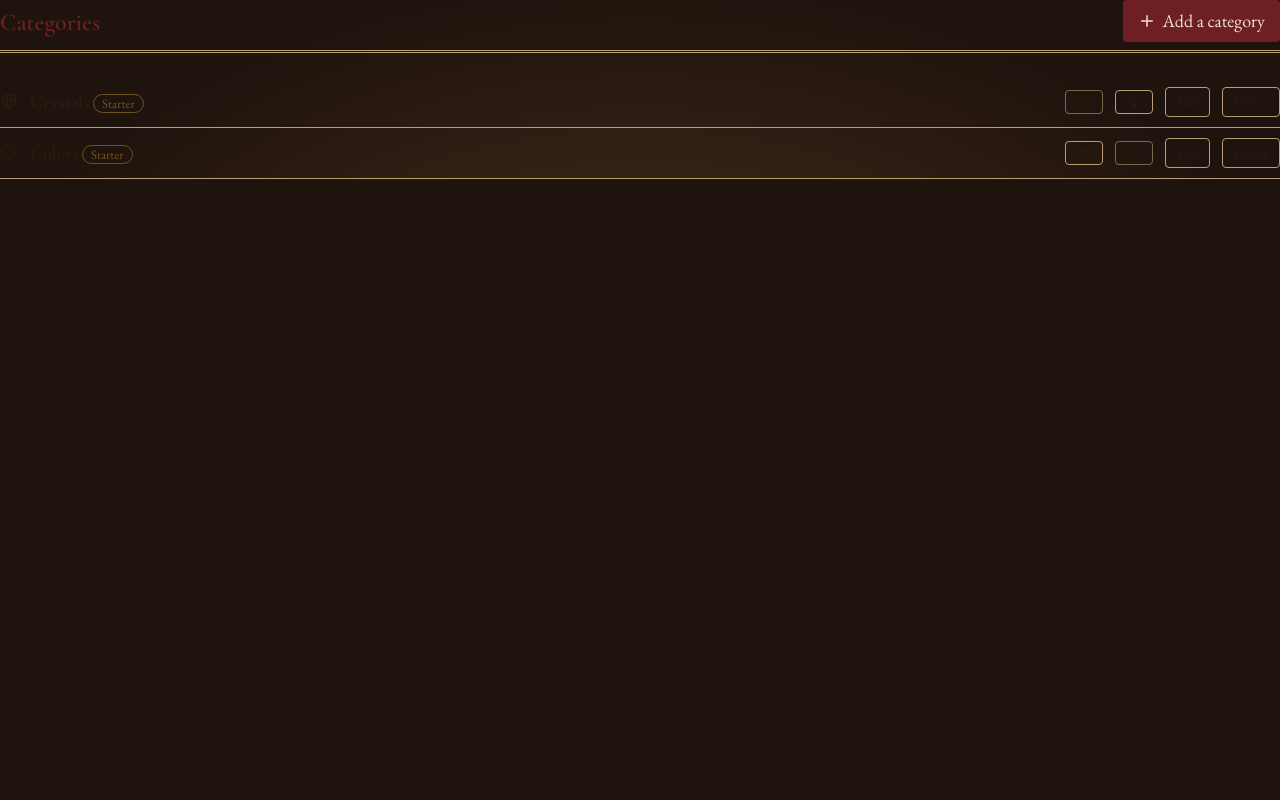
it: Categories › asks before discarding edits
This screenshot has width=1280, height=800.
What coordinates should you click on to do the following:
click the button "Edit" in the row of "Crystals"
I would click on:
 (1188, 102)
Its box is [1165, 87, 1210, 117].
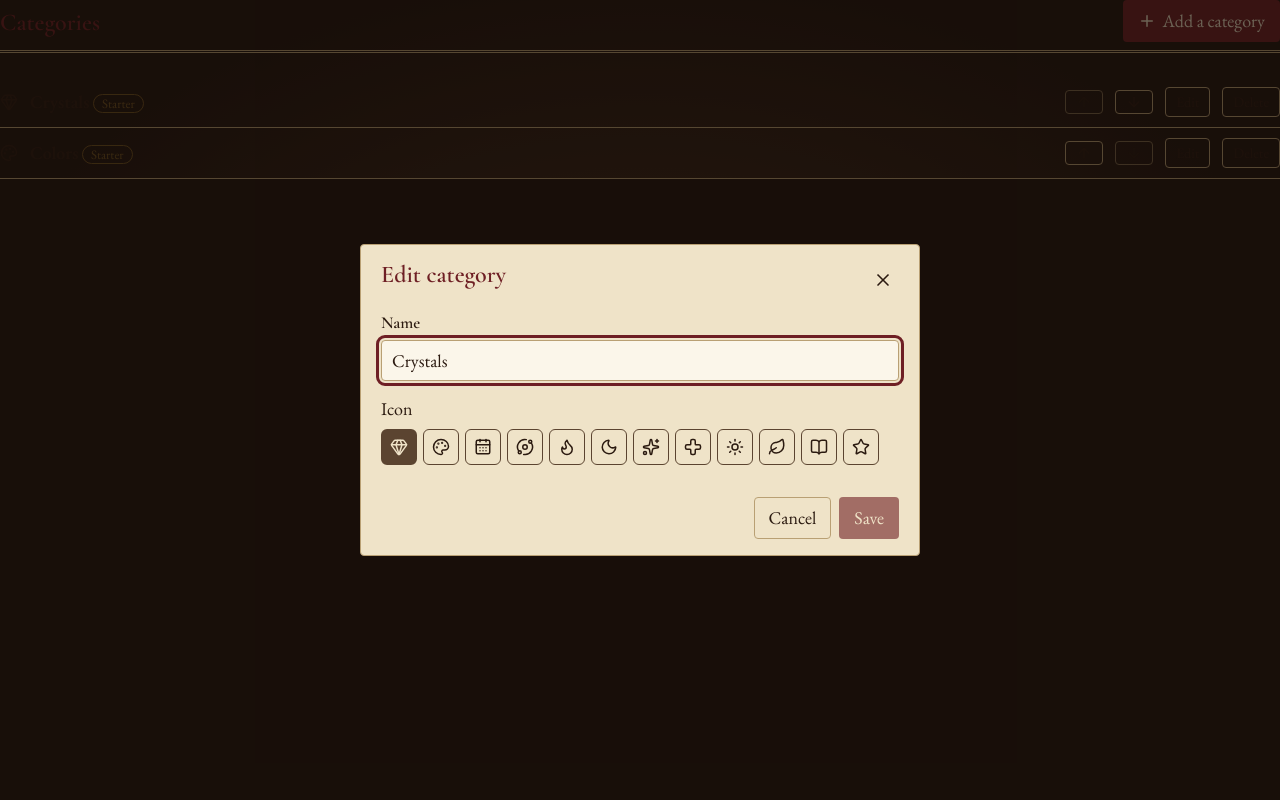
What coordinates should you click on to do the following:
click the radio button named "Moon"
I would click on:
 (609, 447)
Its box is [591, 429, 627, 465].
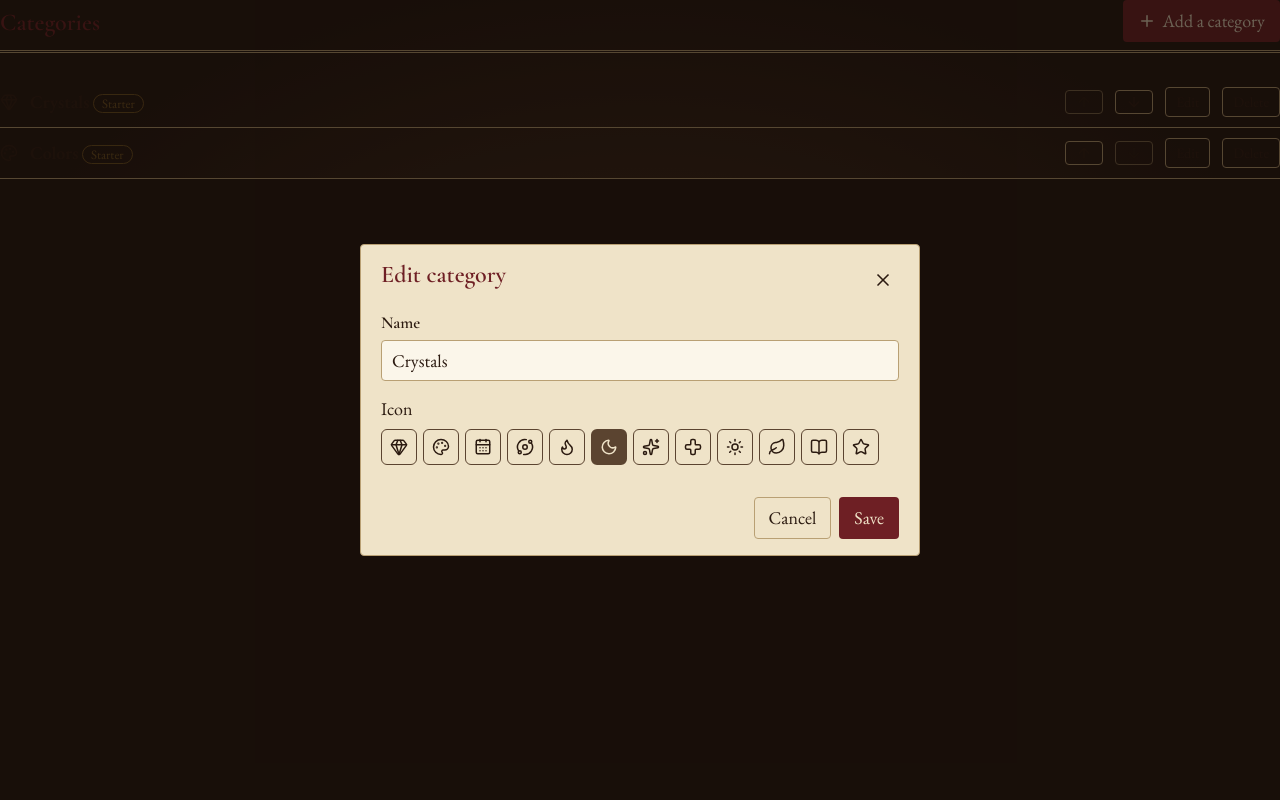
What coordinates should you click on to do the following:
click the button "Cancel"
I would click on:
 (792, 518)
Its box is [754, 497, 831, 539].
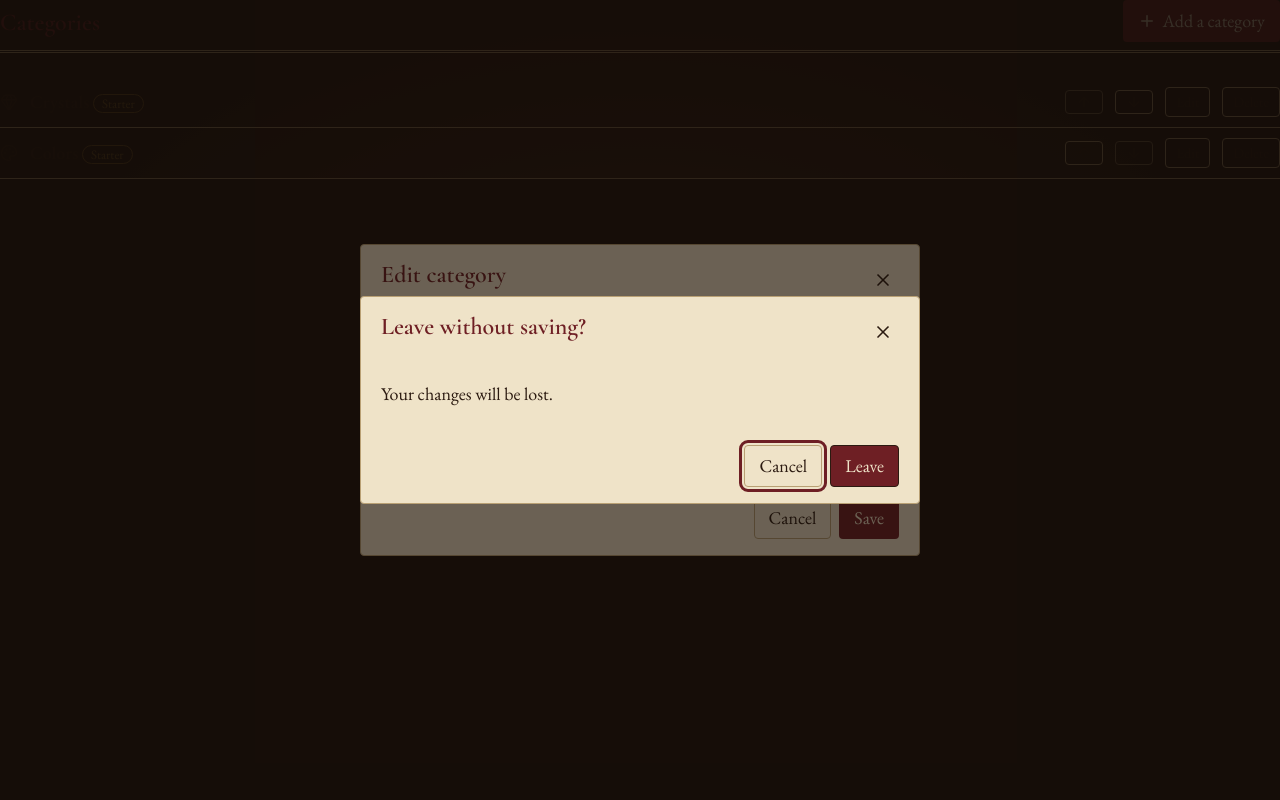
Result: the heading "Leave without saving?" is shown at [381, 313, 586, 342]
